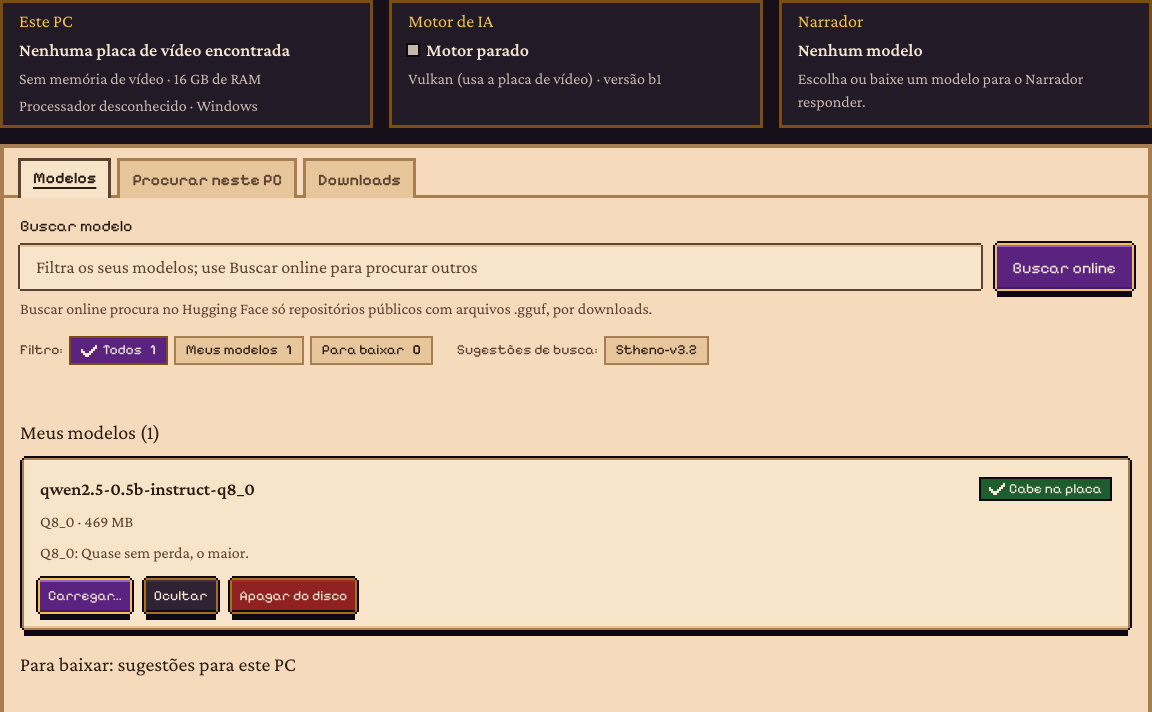
Modelos — Buscar online › botão Buscar online, chip de sugestão de busca e estado vazio
In the search field labelled "Buscar modelo": (500, 267) [20, 245, 980, 289], type "nada"
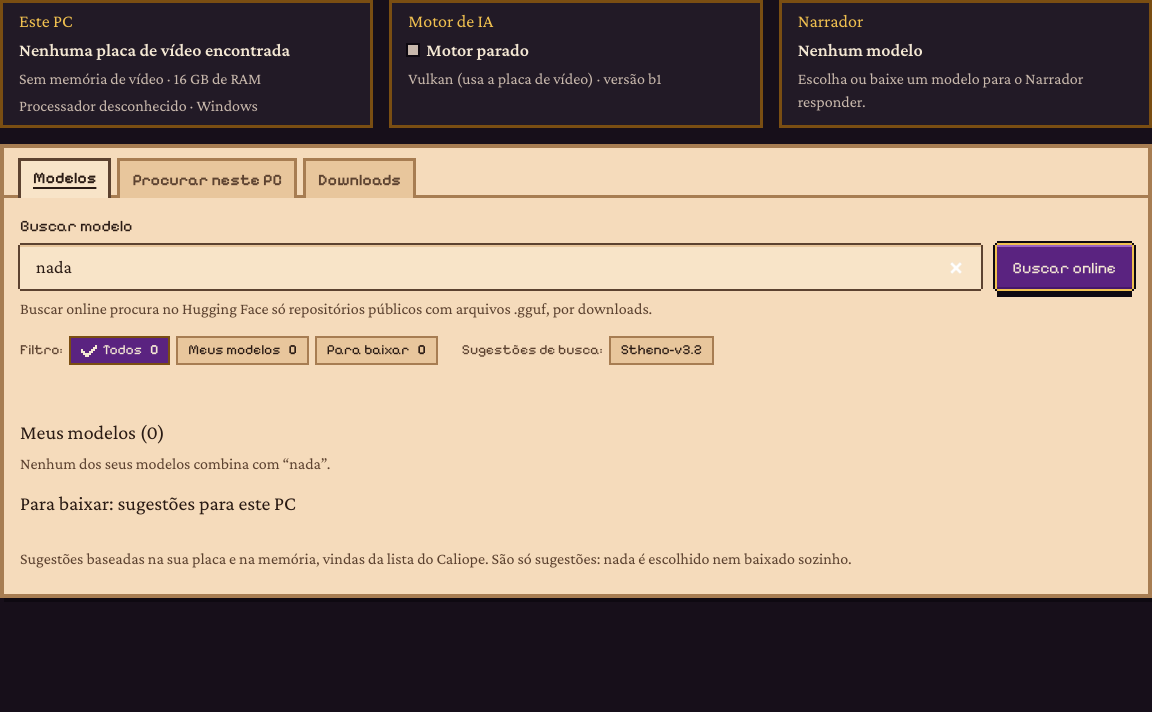
Click the button "Buscar online": (1064, 267) [996, 245, 1132, 289]
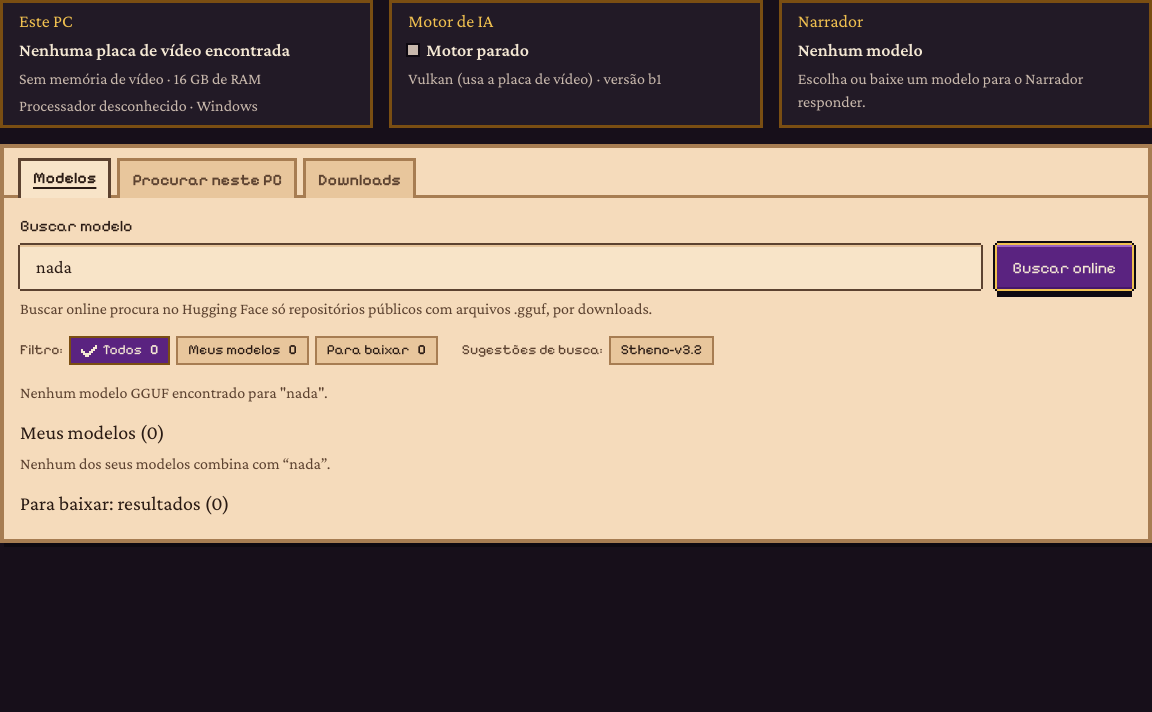
Expected: the text with test id "search-status" reads "Nenhum modelo GGUF encontrado para \"nada\".", [20, 384, 328, 401]
Click the button "Stheno-v3.2": (661, 351) [609, 336, 714, 365]
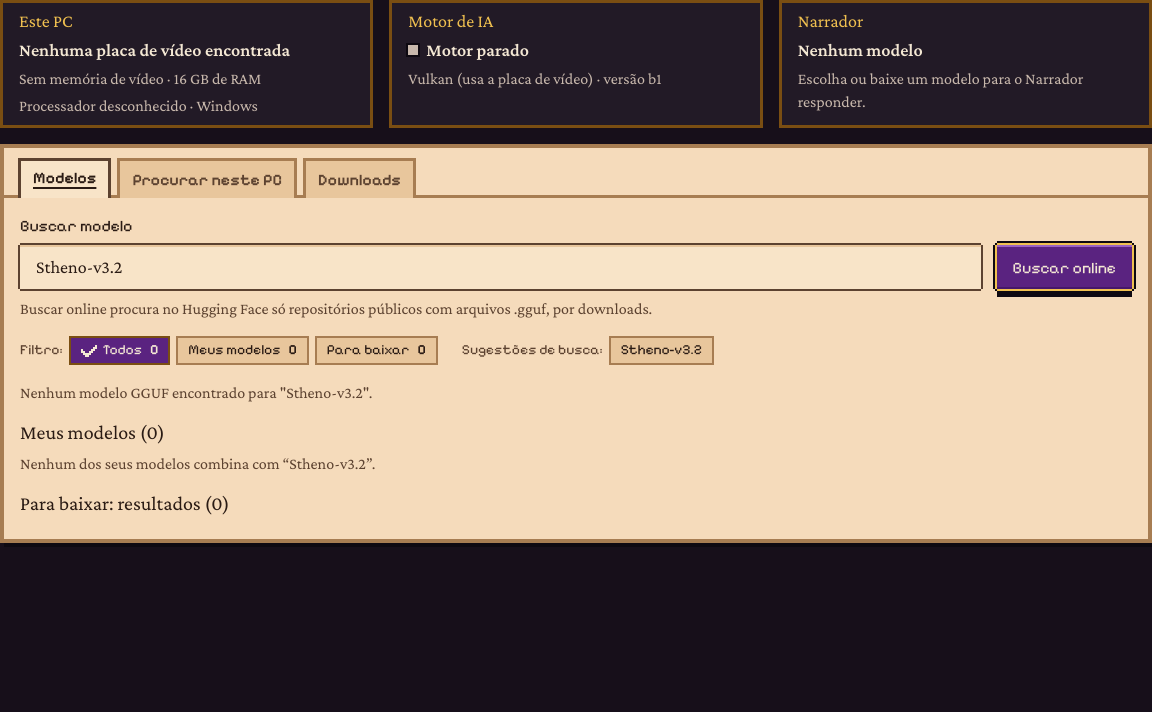
Expected: the search field labelled "Buscar modelo" holds "Stheno-v3.2", [20, 245, 980, 289]
